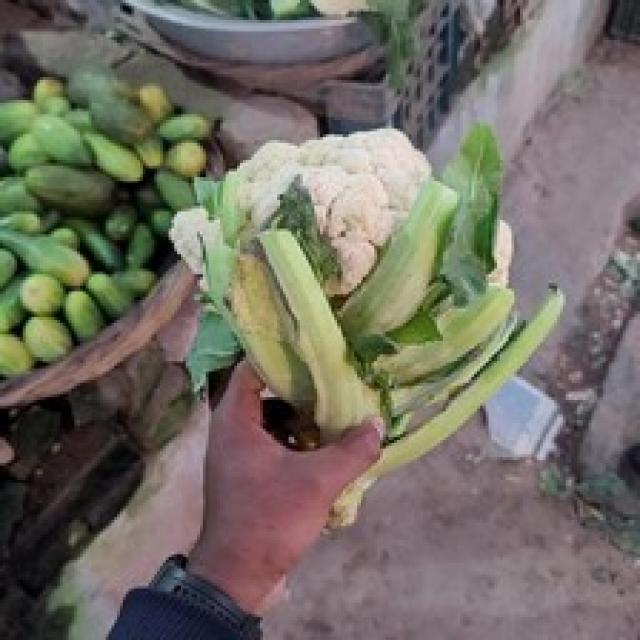Cauliflower: (182, 148, 516, 415)
Cucumber: (0, 124, 127, 227), (4, 224, 115, 285)
